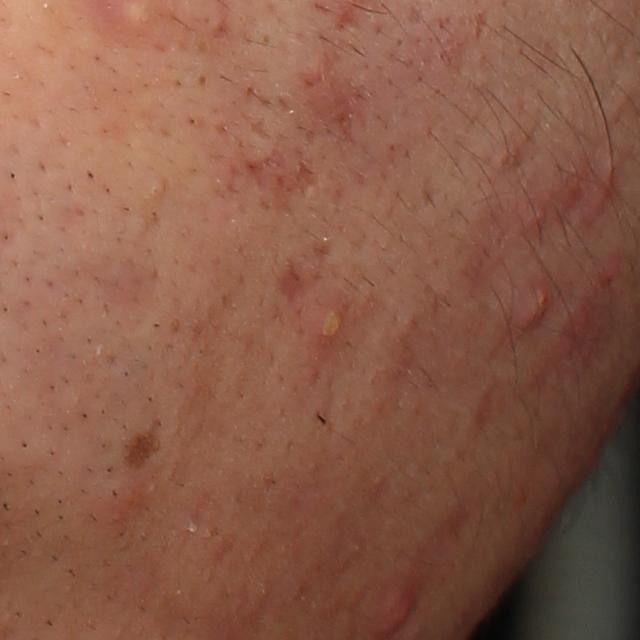atrophic_scar: (273, 250, 305, 306), (247, 115, 272, 141)
comedo: (141, 177, 169, 202)
nevus: (111, 424, 165, 475)
papule: (511, 284, 557, 342), (96, 480, 144, 531), (589, 173, 618, 225)
pustule: (314, 288, 349, 353)
